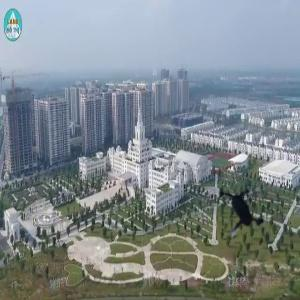drone: (200, 173, 280, 253)
